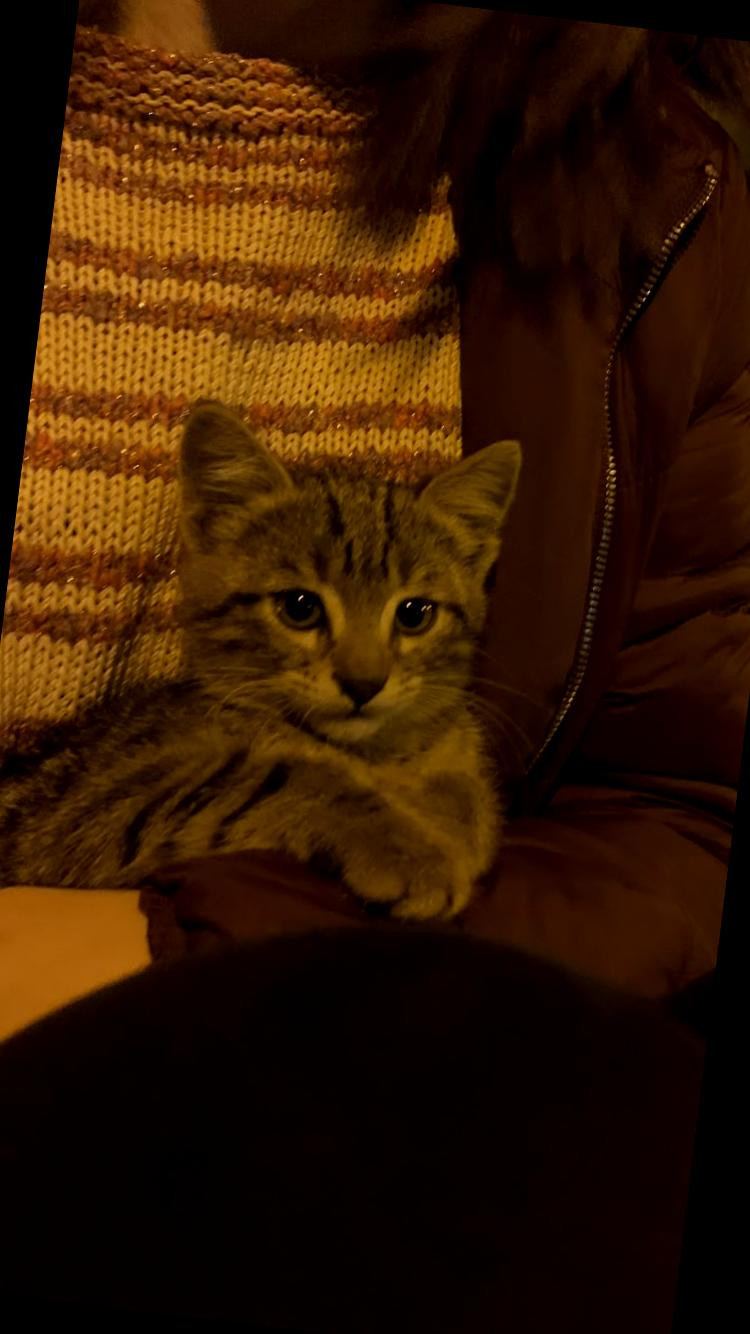macka: (0, 378, 547, 933)
